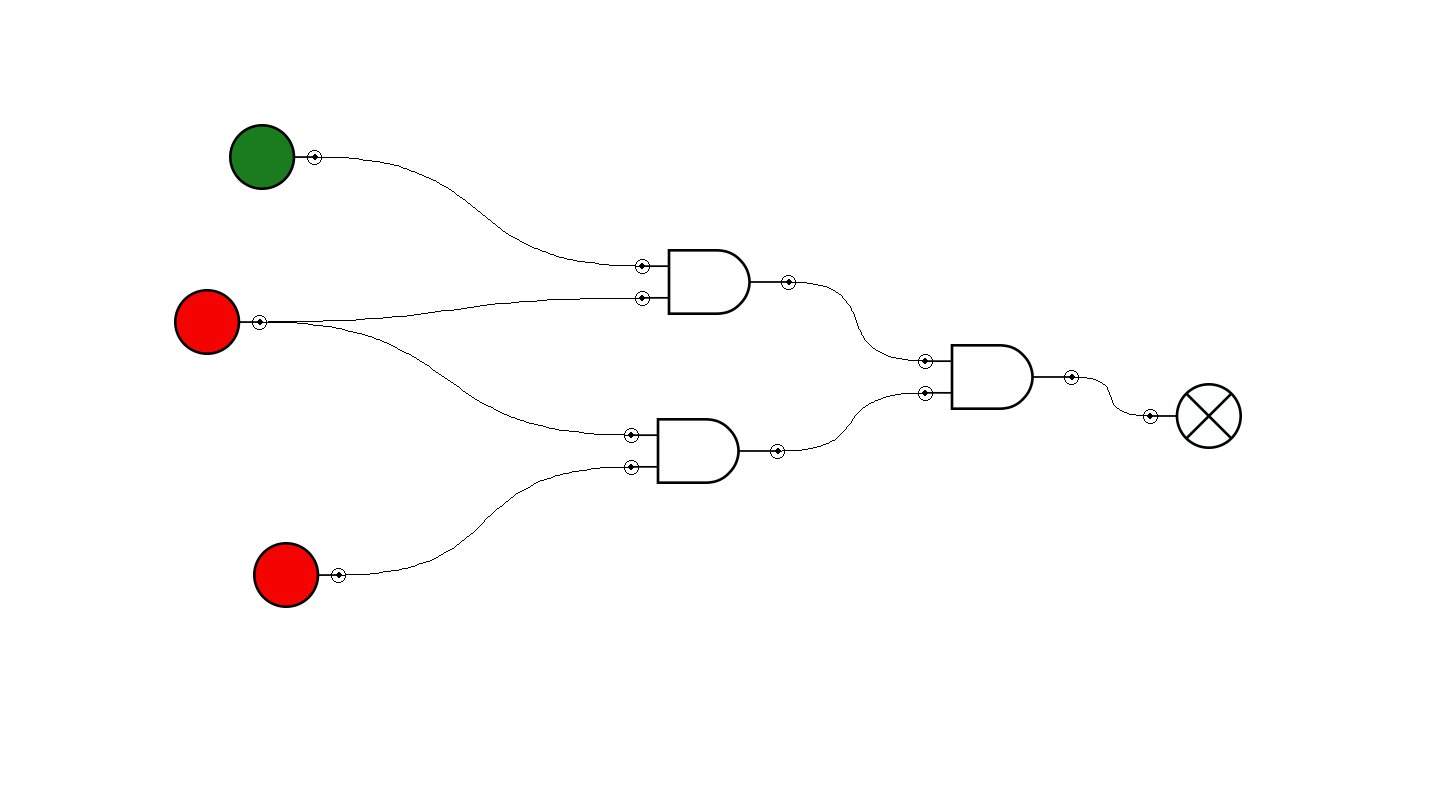and: (624, 418, 785, 484), (635, 249, 796, 315), (918, 344, 1079, 410)
bulb: (1143, 383, 1242, 449)
switch_False: (174, 289, 267, 355), (253, 542, 346, 608)
switch_True: (229, 124, 322, 190)
